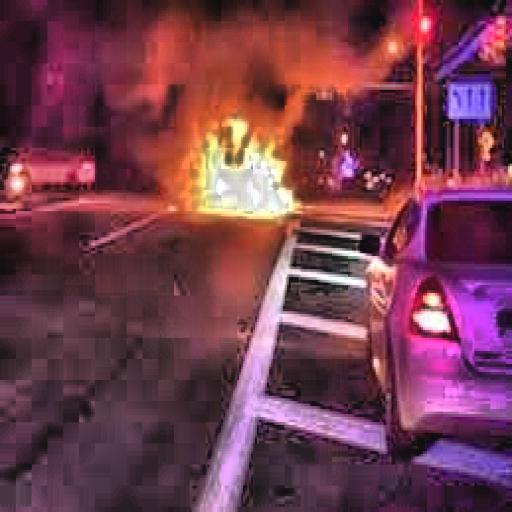fire: (164, 103, 308, 232)
